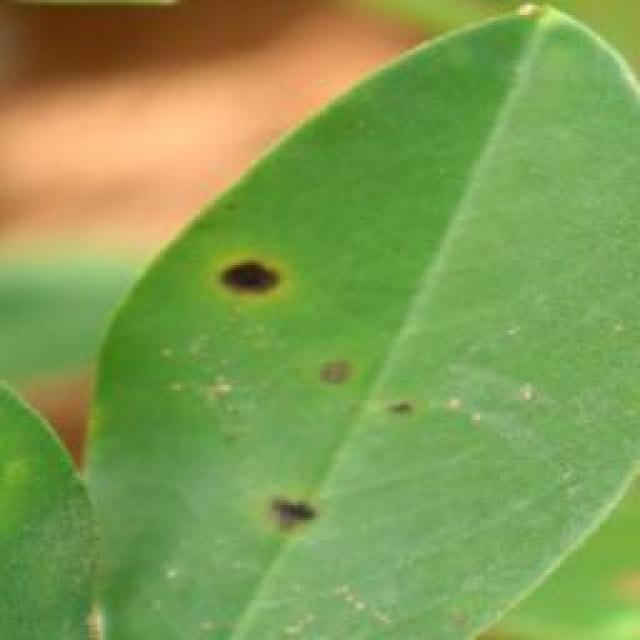Sigatoka: (182, 236, 333, 337), (299, 352, 428, 454), (230, 464, 341, 545)
